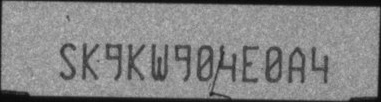0: (264, 45, 282, 82), (197, 44, 215, 80)
4: (310, 46, 329, 84), (219, 44, 237, 82)
9: (105, 42, 123, 81), (174, 43, 192, 82)
A: (287, 46, 306, 83)
E: (242, 45, 259, 83)
K: (81, 41, 101, 81), (126, 42, 146, 80)
S: (58, 42, 77, 80)
W: (150, 42, 169, 81)
